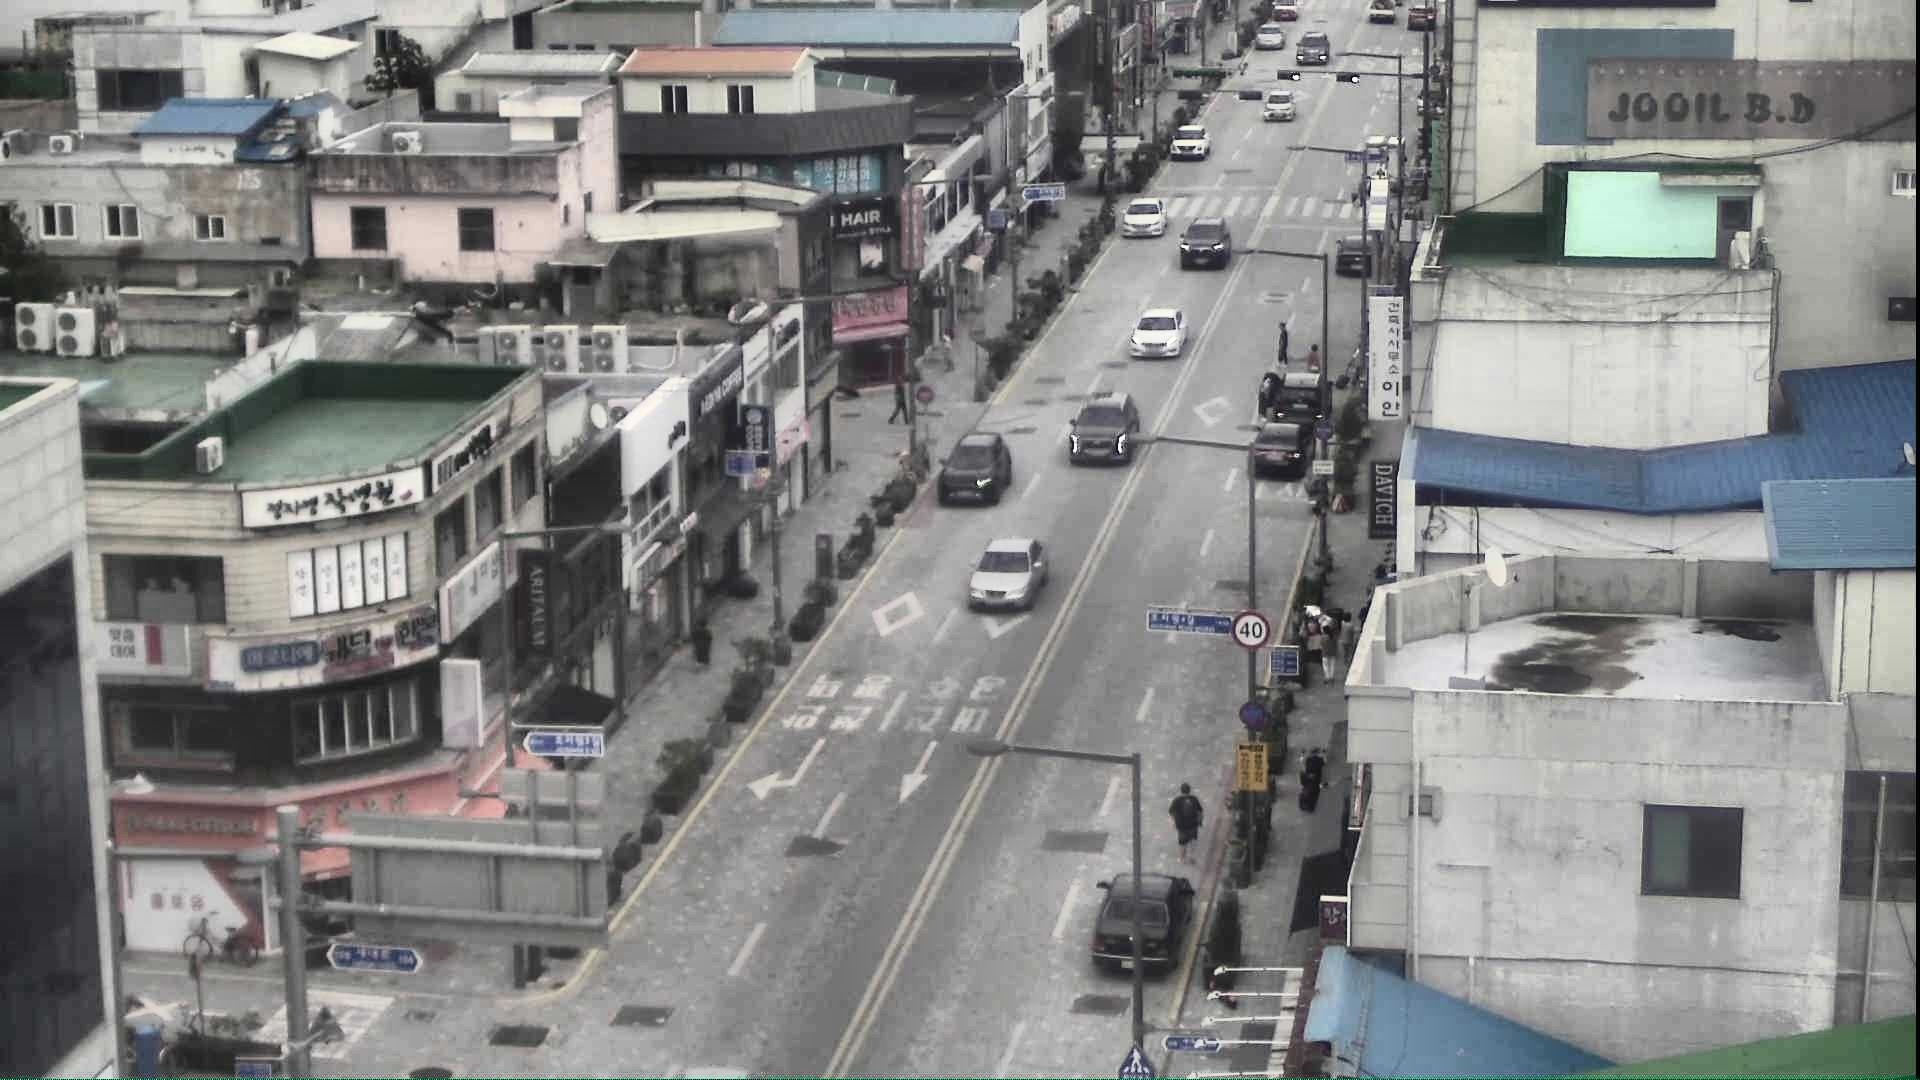jaywalk: (1168, 777, 1207, 865), (1274, 319, 1292, 368), (1305, 340, 1323, 389), (1348, 336, 1360, 385)
sidewalk: (1335, 608, 1362, 675), (687, 618, 713, 679), (1315, 622, 1337, 683), (889, 371, 909, 426), (939, 322, 959, 373)
